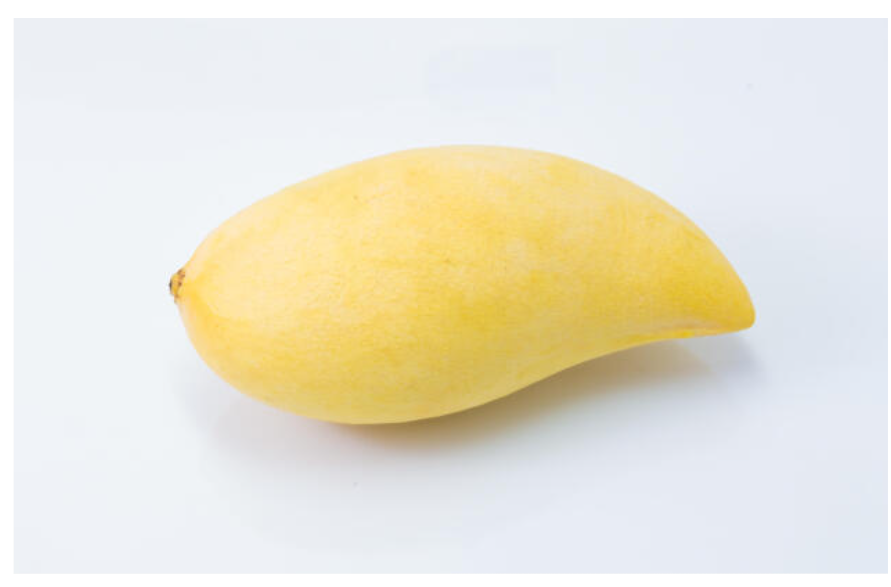mango: (168, 140, 758, 428)
